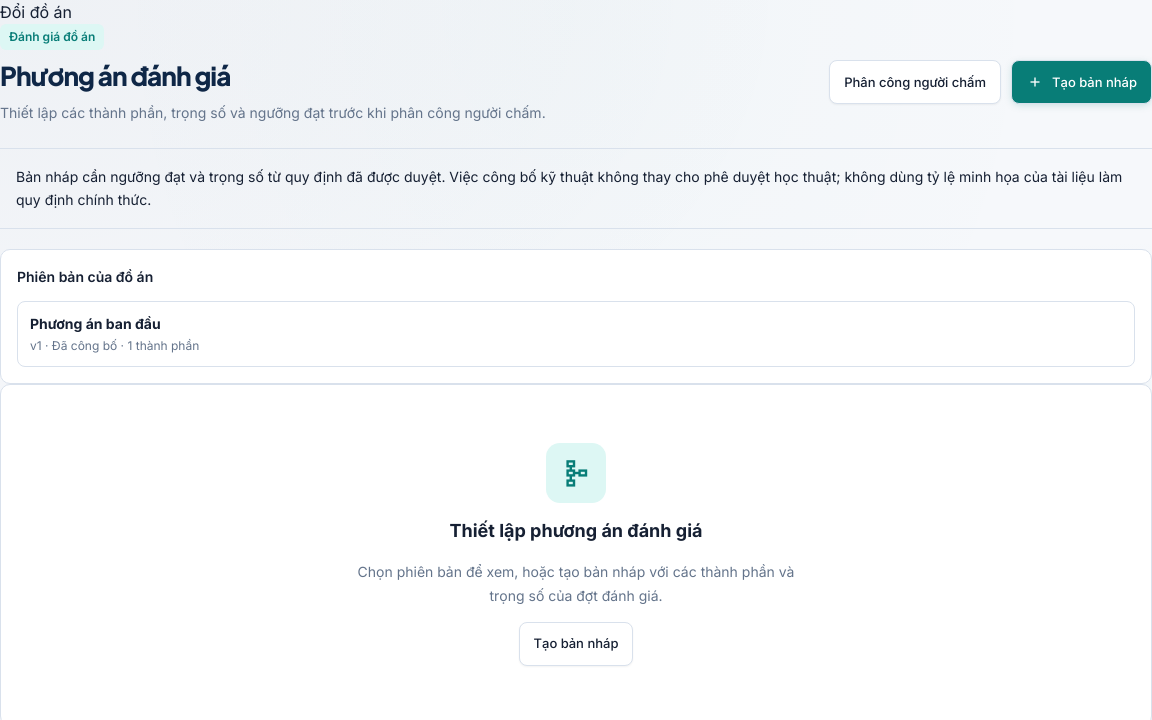
EvaluationSchemeManagementPage concurrency reconciliation › reconciles a create-version conflict without replaying it
Click the button "Phương án ban đầu v1 · Đã công bố · 1 thành phần" at (95, 323), box [17, 301, 1135, 367]
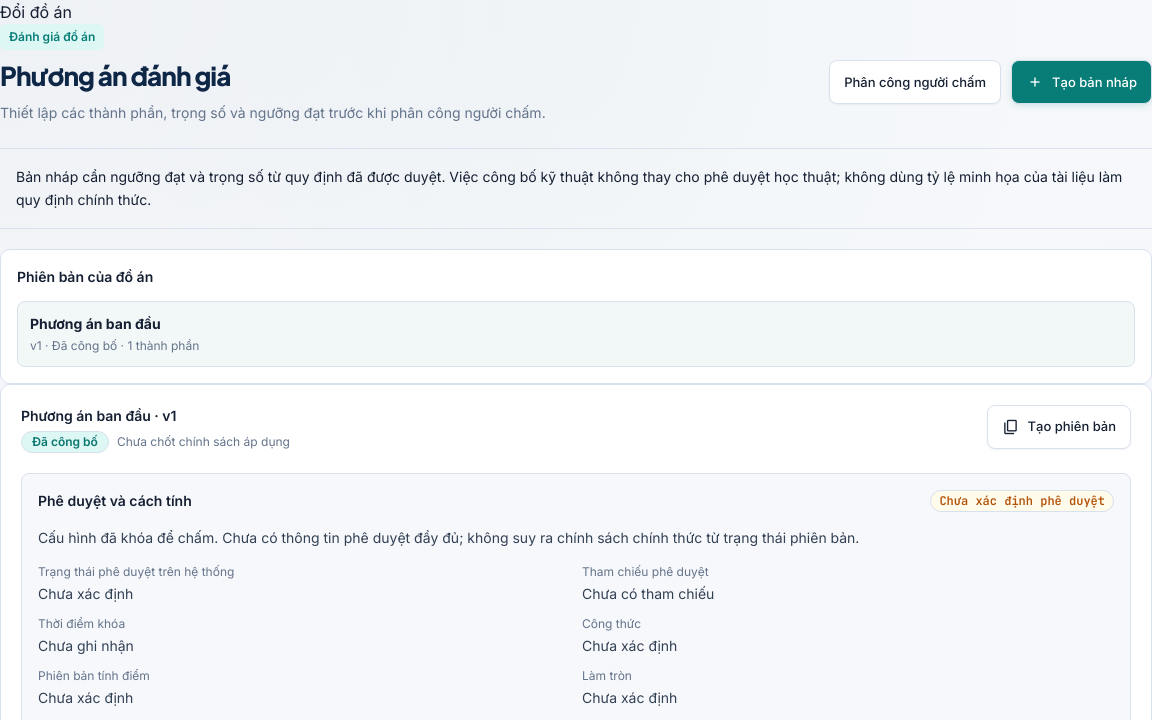
Click the button "Tạo phiên bản" at (1059, 427), box [986, 405, 1131, 449]
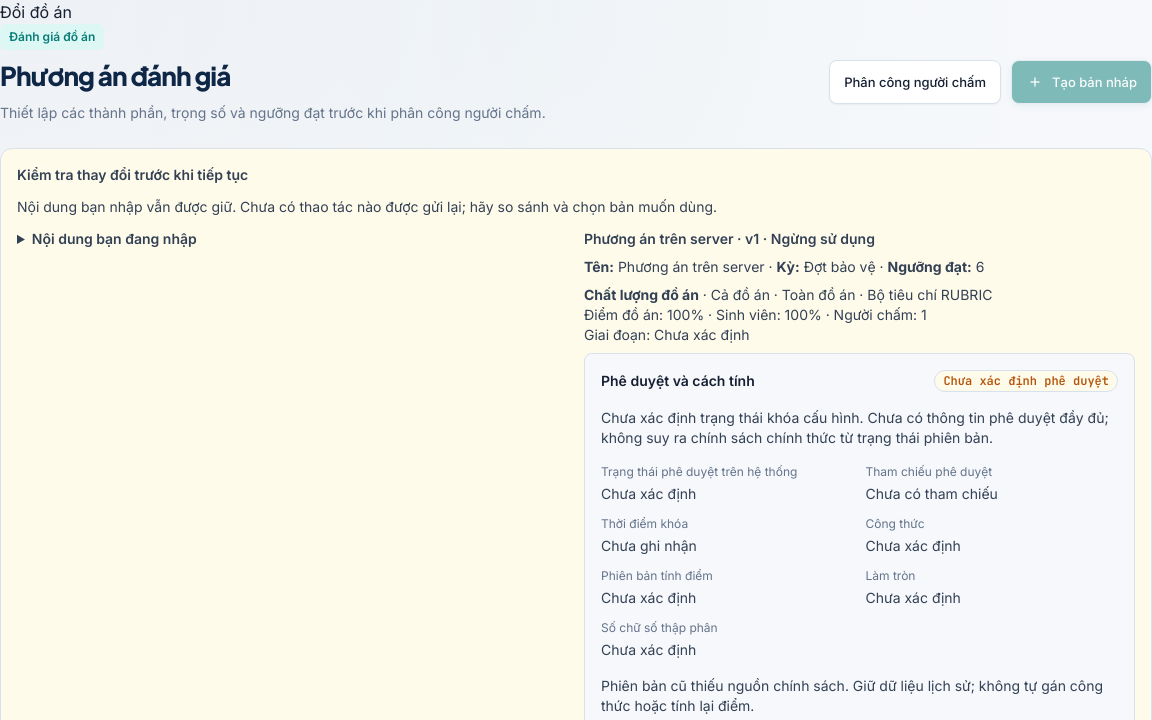
Expected: the heading "Kiểm tra thay đổi trước khi tiếp tục" is shown, [17, 166, 248, 183]
